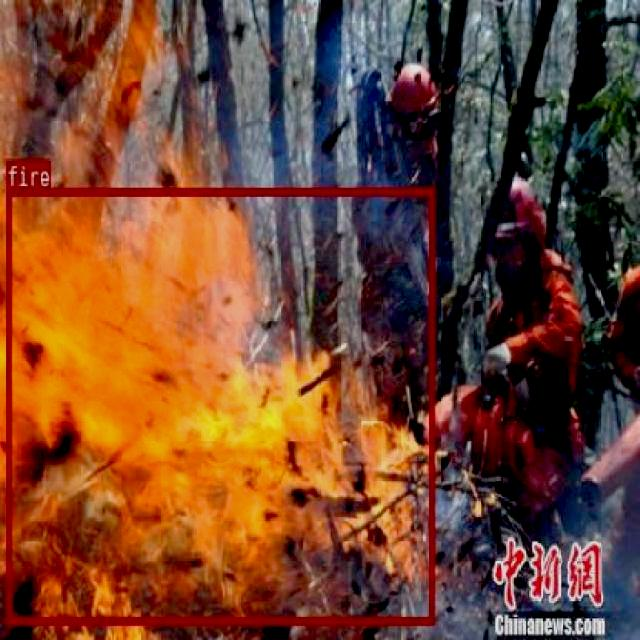fire: (5, 186, 433, 623)
